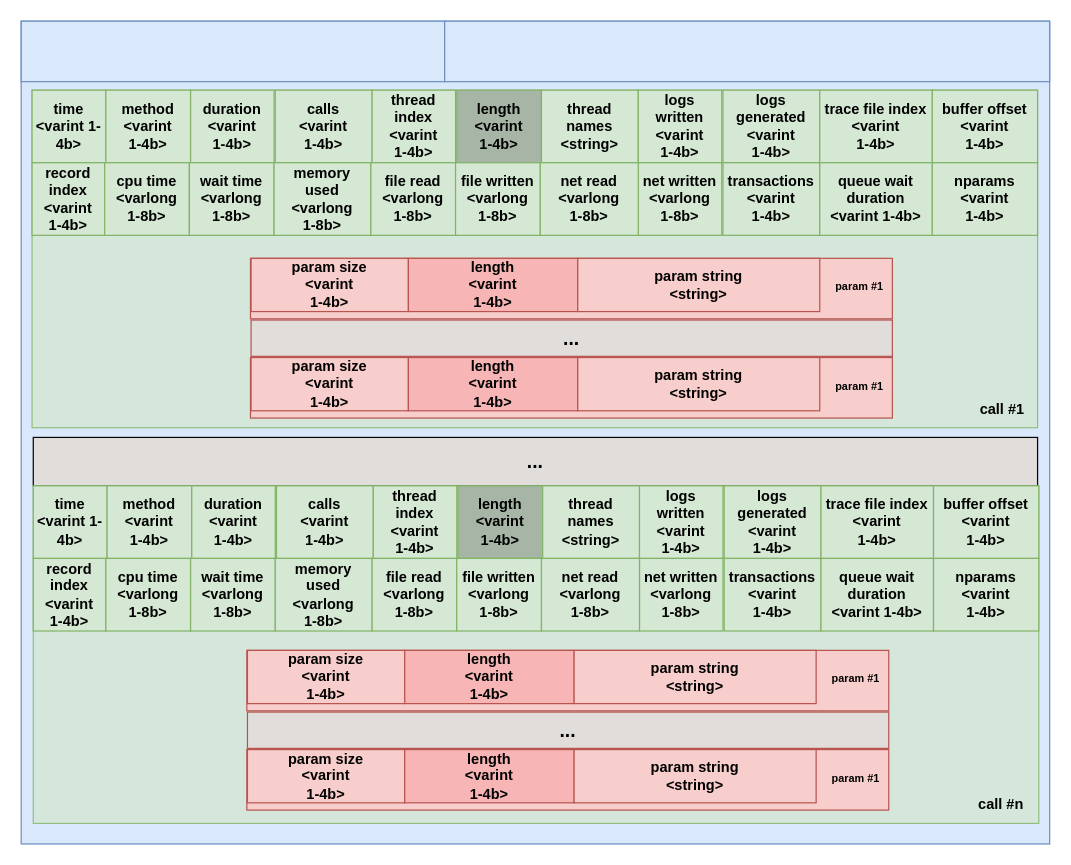
Image size: 1071x865. Some labels were removed from this diagram. Each missing label, with the centre of its shape:
file _format < long 8b>: point 232,51
start_time <long 8b>: point 746,51
